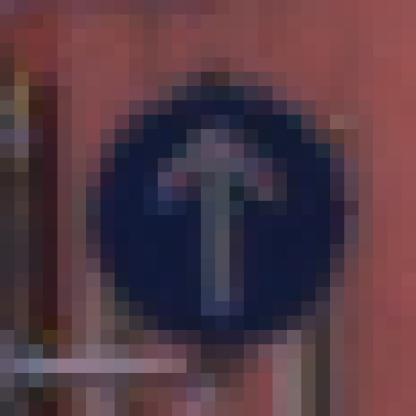AheadOnly: (73, 73, 331, 345)
